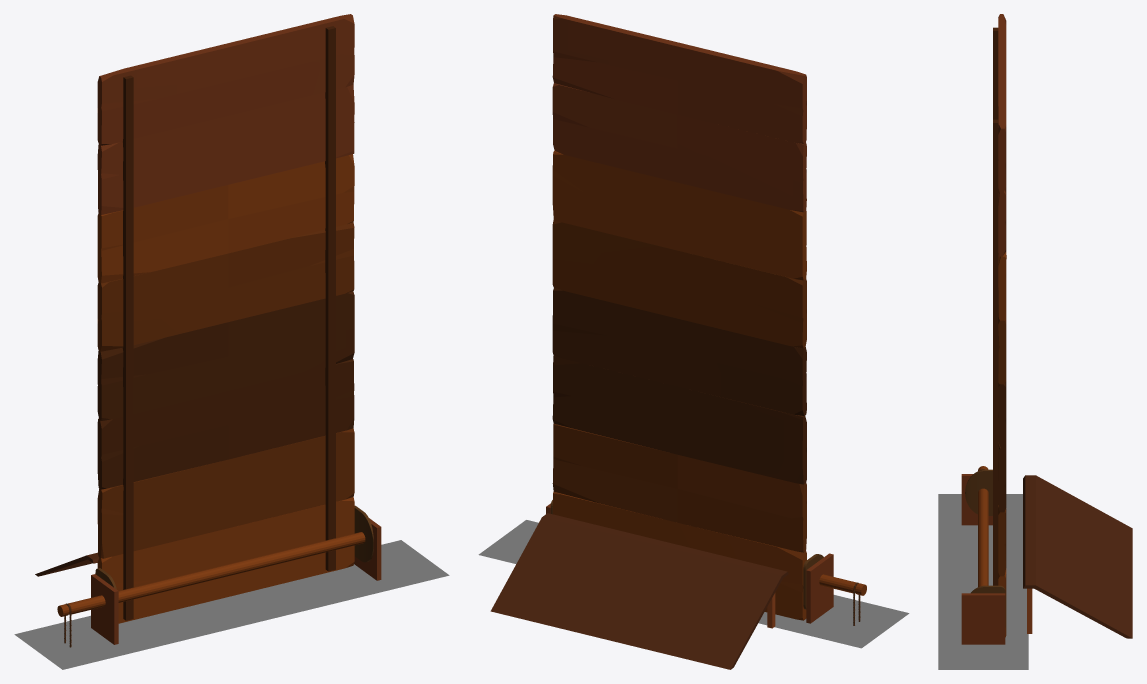
File: FBX_ENV_RUIN_ZUGBRUECKE_OBEN.fbx
The picture shows the model from 3 angles, left to right: view 1: azimuth 30°, elevation 25°; view 2: azimuth 150°, elevation 25°; view 3: azimuth 270°, elevation 25°; orthographic projection. The views are drawn at different scales.
Parts seen in each view (by area): view 1: Cube.027, Circle.006; view 2: Cube.027, Circle.006; view 3: Circle.006, Cube.027.
Boxes of the visible parts, x1=… form: Cube.027: x1=57, y1=14, x2=373, y2=623; Circle.006: x1=14, y1=518, x2=449, y2=669; Cube.027: x1=550, y1=14, x2=866, y2=620; Circle.006: x1=478, y1=503, x2=909, y2=669; Circle.006: x1=938, y1=469, x2=1132, y2=669; Cube.027: x1=965, y1=14, x2=1006, y2=637.
Bounding box in the file's own units: 230 × 315 × 107.
